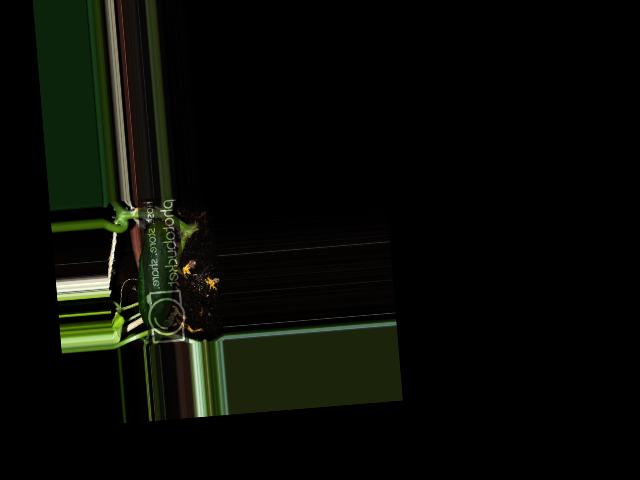cucumber: (132, 219, 180, 328)
